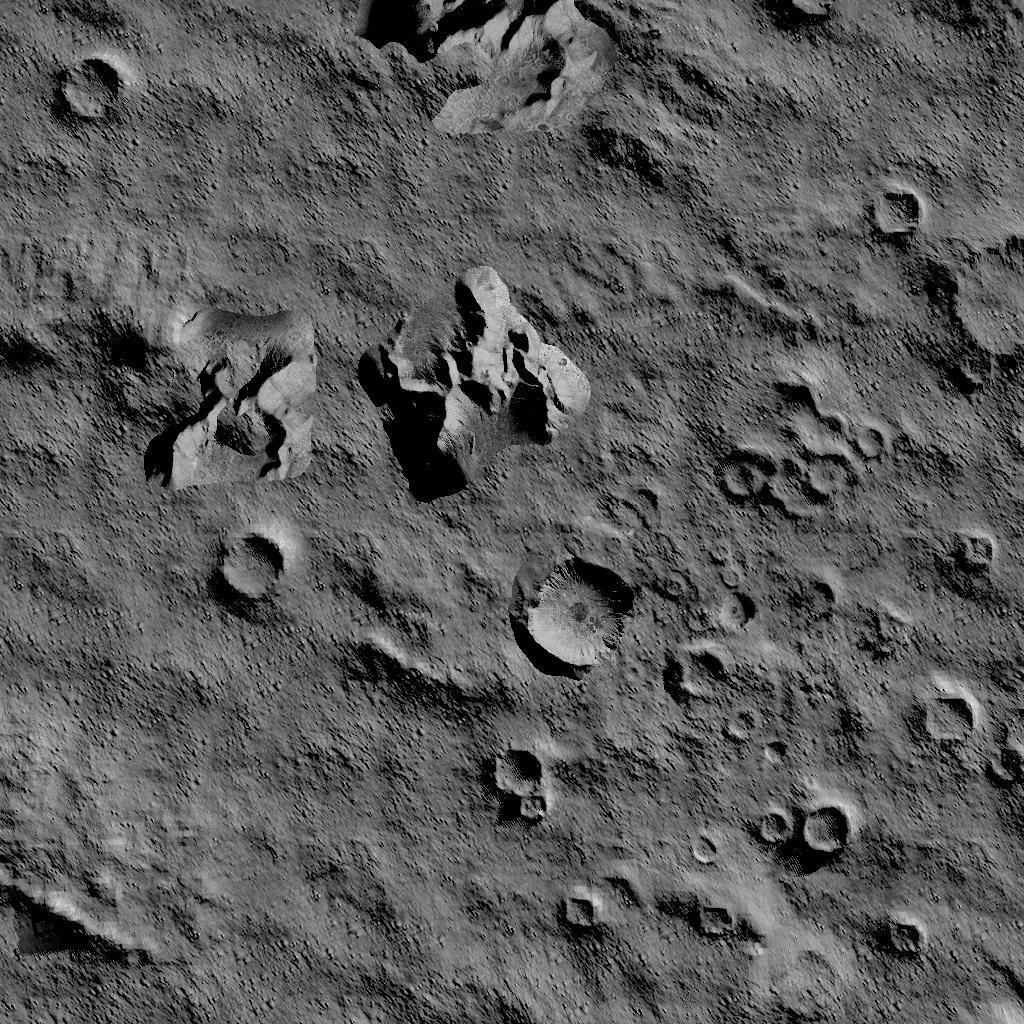Boulders: (349, 253, 586, 492), (122, 281, 310, 476), (392, 0, 615, 131)
Crater: (712, 368, 880, 510), (520, 551, 638, 668), (947, 214, 1024, 363), (210, 523, 290, 609), (48, 54, 130, 124), (750, 800, 848, 849), (941, 967, 1024, 1024), (486, 746, 551, 818), (866, 180, 928, 238), (916, 683, 974, 737), (982, 715, 1024, 788), (666, 642, 726, 692), (946, 515, 998, 561), (712, 587, 758, 628), (556, 886, 598, 928), (875, 910, 920, 948), (690, 894, 734, 929), (686, 824, 719, 860), (732, 697, 758, 729)
Plan surface: (211, 652, 479, 954), (0, 488, 197, 807), (137, 0, 373, 192)
